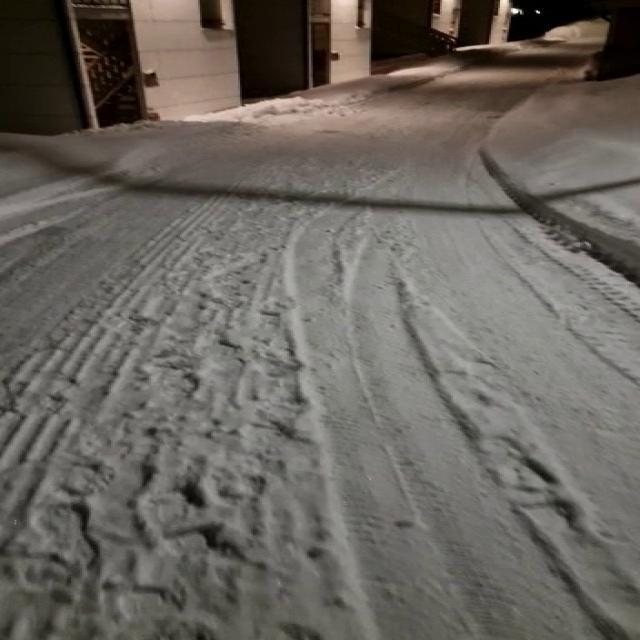path: (0, 42, 640, 640)
